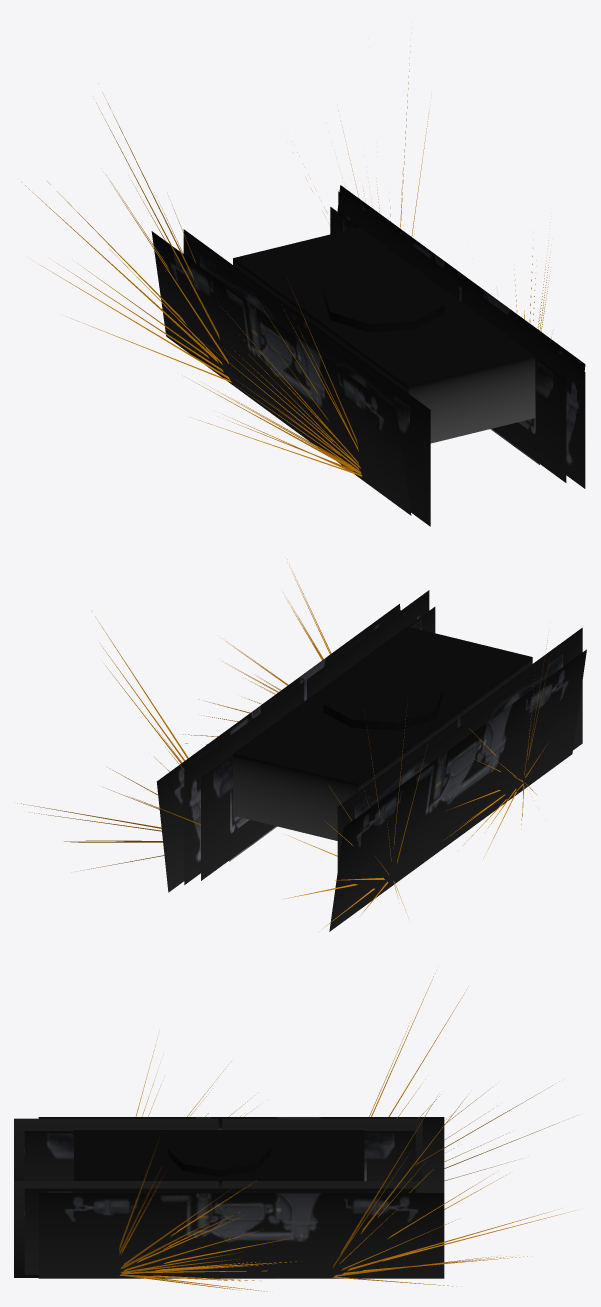
Rendered from UV_TRACK_N.glb.
3 views of the same model, one above another, from view 1: azimuth 30°, elevation 25°; view 2: azimuth 150°, elevation 25°; view 3: azimuth 270°, elevation 25° (orthographic). The views are drawn at different scales.
Visible parts, largest first — view 1: trackbase1, Fire0_R_0, Fire1_R_1; view 2: trackbase1, Fire1_L_0, Fire0_R_0, Fire1_R_1; view 3: trackbase1, Fire0_L_0, Fire1_L_1, Fire0_L_1, Fire1_R_0.
Boxes of the visible parts, x1=… form: trackbase1: x1=151, y1=185, x2=585, y2=526; Fire0_R_0: x1=188, y1=285, x2=362, y2=476; Fire1_R_1: x1=21, y1=83, x2=231, y2=382; trackbase1: x1=156, y1=590, x2=586, y2=931; Fire1_L_0: x1=30, y1=623, x2=200, y2=870; Fire0_R_0: x1=446, y1=730, x2=531, y2=858; Fire1_R_1: x1=284, y1=705, x2=407, y2=931; trackbase1: x1=14, y1=1117, x2=444, y2=1278; Fire0_L_0: x1=119, y1=1149, x2=296, y2=1291; Fire1_L_1: x1=333, y1=1098, x2=573, y2=1286; Fire0_L_1: x1=119, y1=1145, x2=295, y2=1291; Fire1_R_0: x1=369, y1=977, x2=559, y2=1180.
Size of the model in its own units: 9.19 by 6.14 by 14.48.
Materials: 14 (5 with a texture image).
